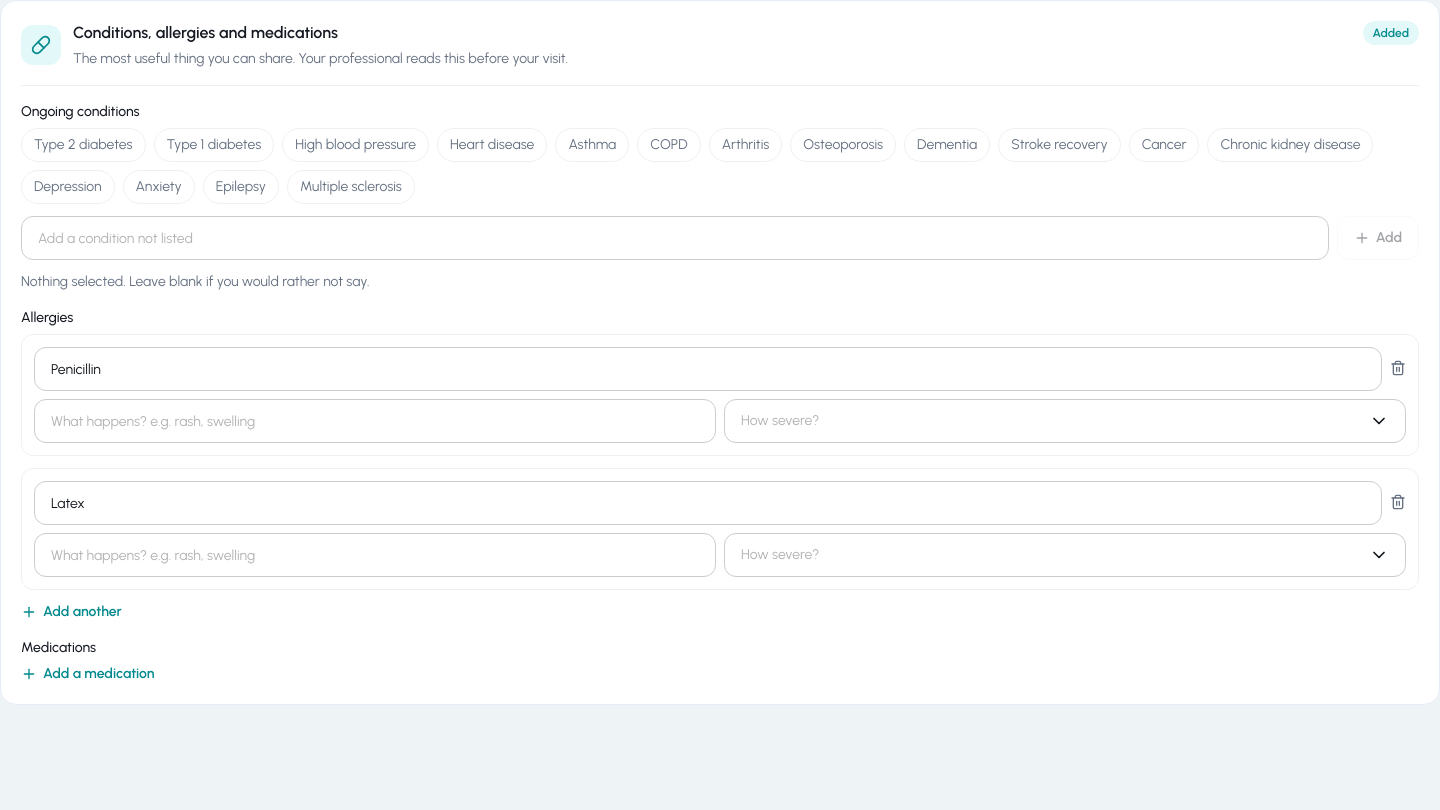
allergy rows › keeps the second row's values when the first is deleted
Expected: the 1st field showing "Penicillin" is shown, [34, 347, 1382, 391]
Expected: the 2nd field showing "Latex" is shown, [34, 481, 1382, 525]
What coordinates should you click on to do the following:
click the button named "Remove allergy 1"
I would click on:
 (1398, 368)
Its box is [1390, 360, 1406, 376].
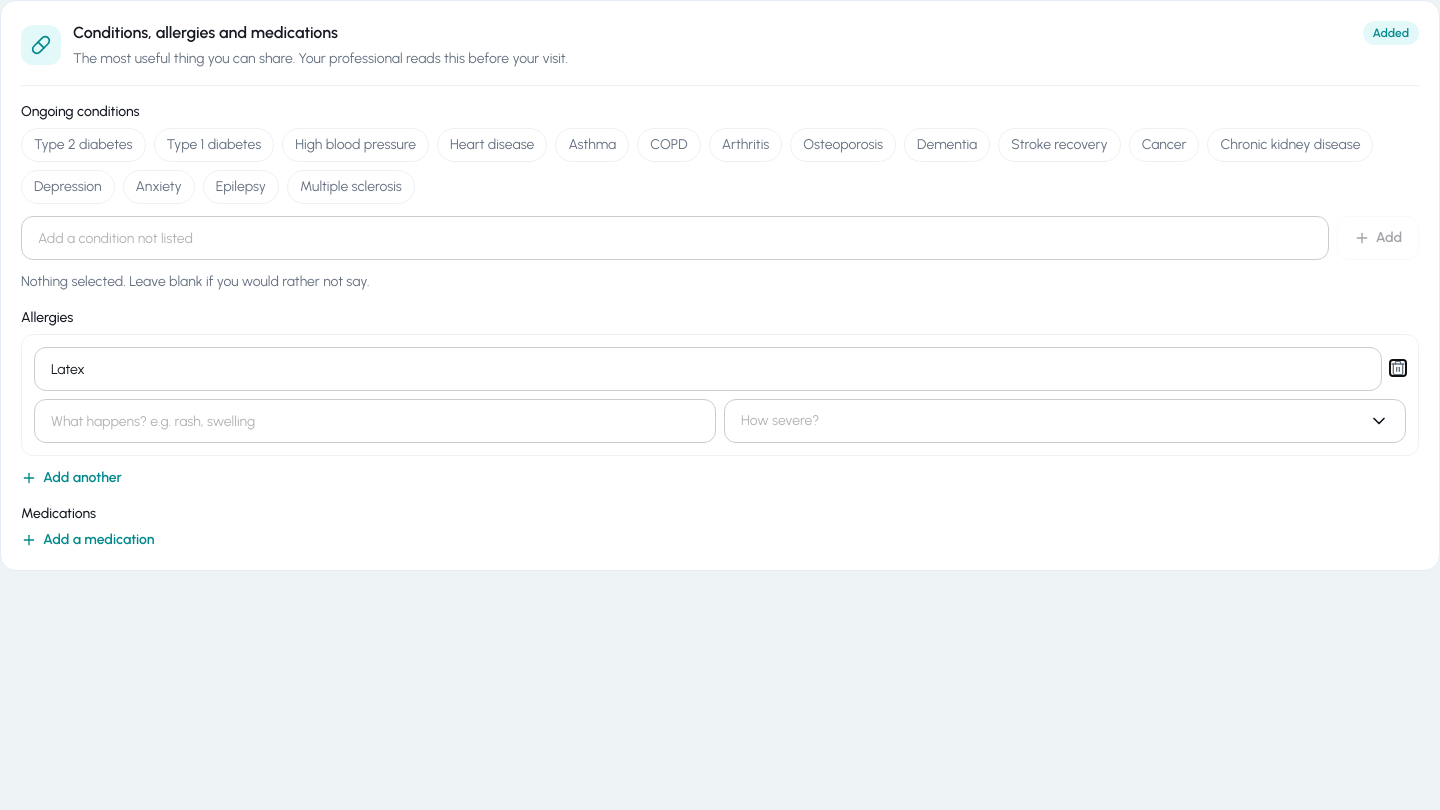
Expected: the field showing "Penicillin" is not shown
Expected: the field showing "Latex" is shown, [34, 347, 1382, 391]
